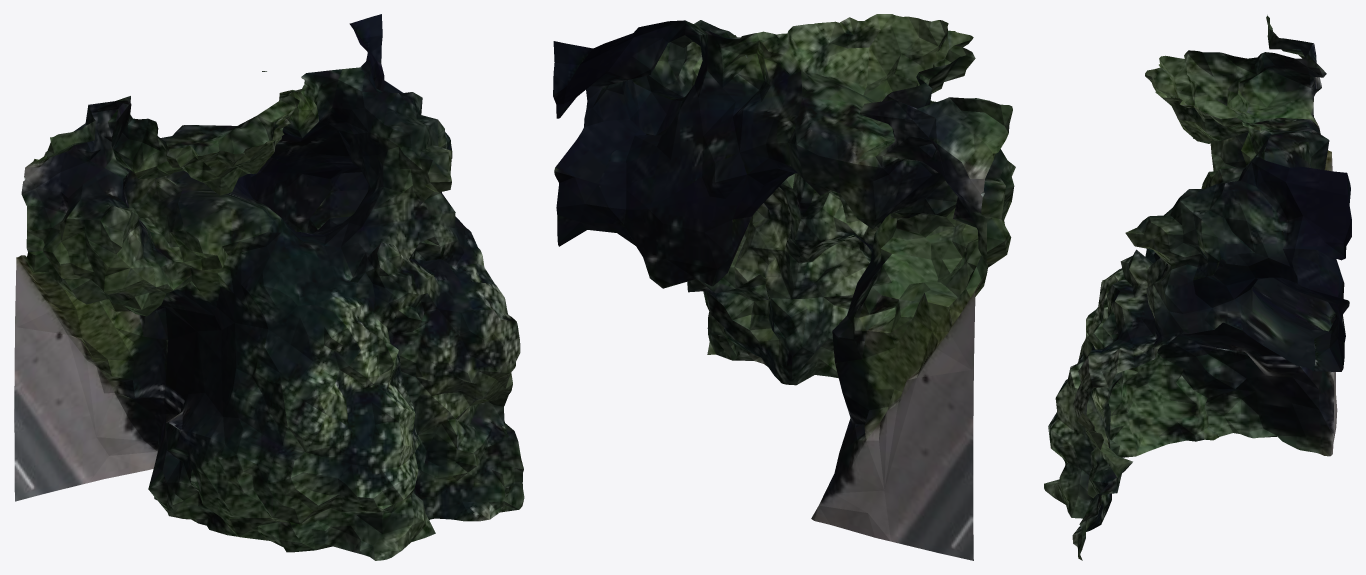
Rendered from Tile_+031_+024_L19_000101.obj.
3 views of the same model, side by side, from view 1: azimuth 30°, elevation 25°; view 2: azimuth 150°, elevation 25°; view 3: azimuth 270°, elevation 25° (orthographic). The views are drawn at different scales.
Bounding box in the file's own units: 31.75 × 31.5 × 23.63.
1 material, 1 textured.
